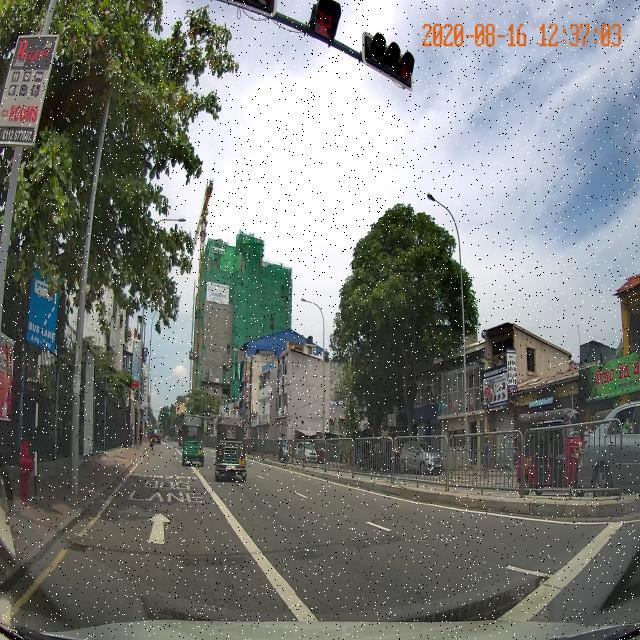forward: (65, 506, 272, 560)
